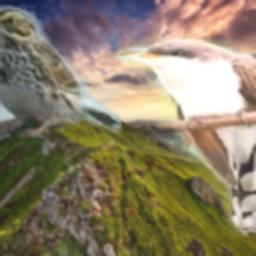Cuckoo: (118, 40, 256, 237)
Sparrow: (0, 5, 121, 137)
